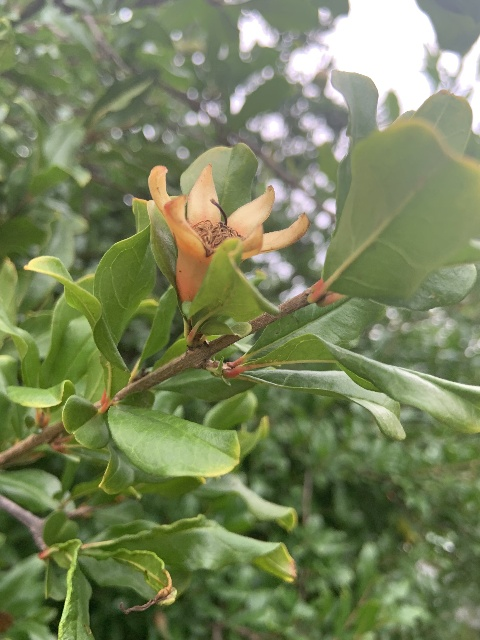early-fruit: (147, 162, 309, 301)
